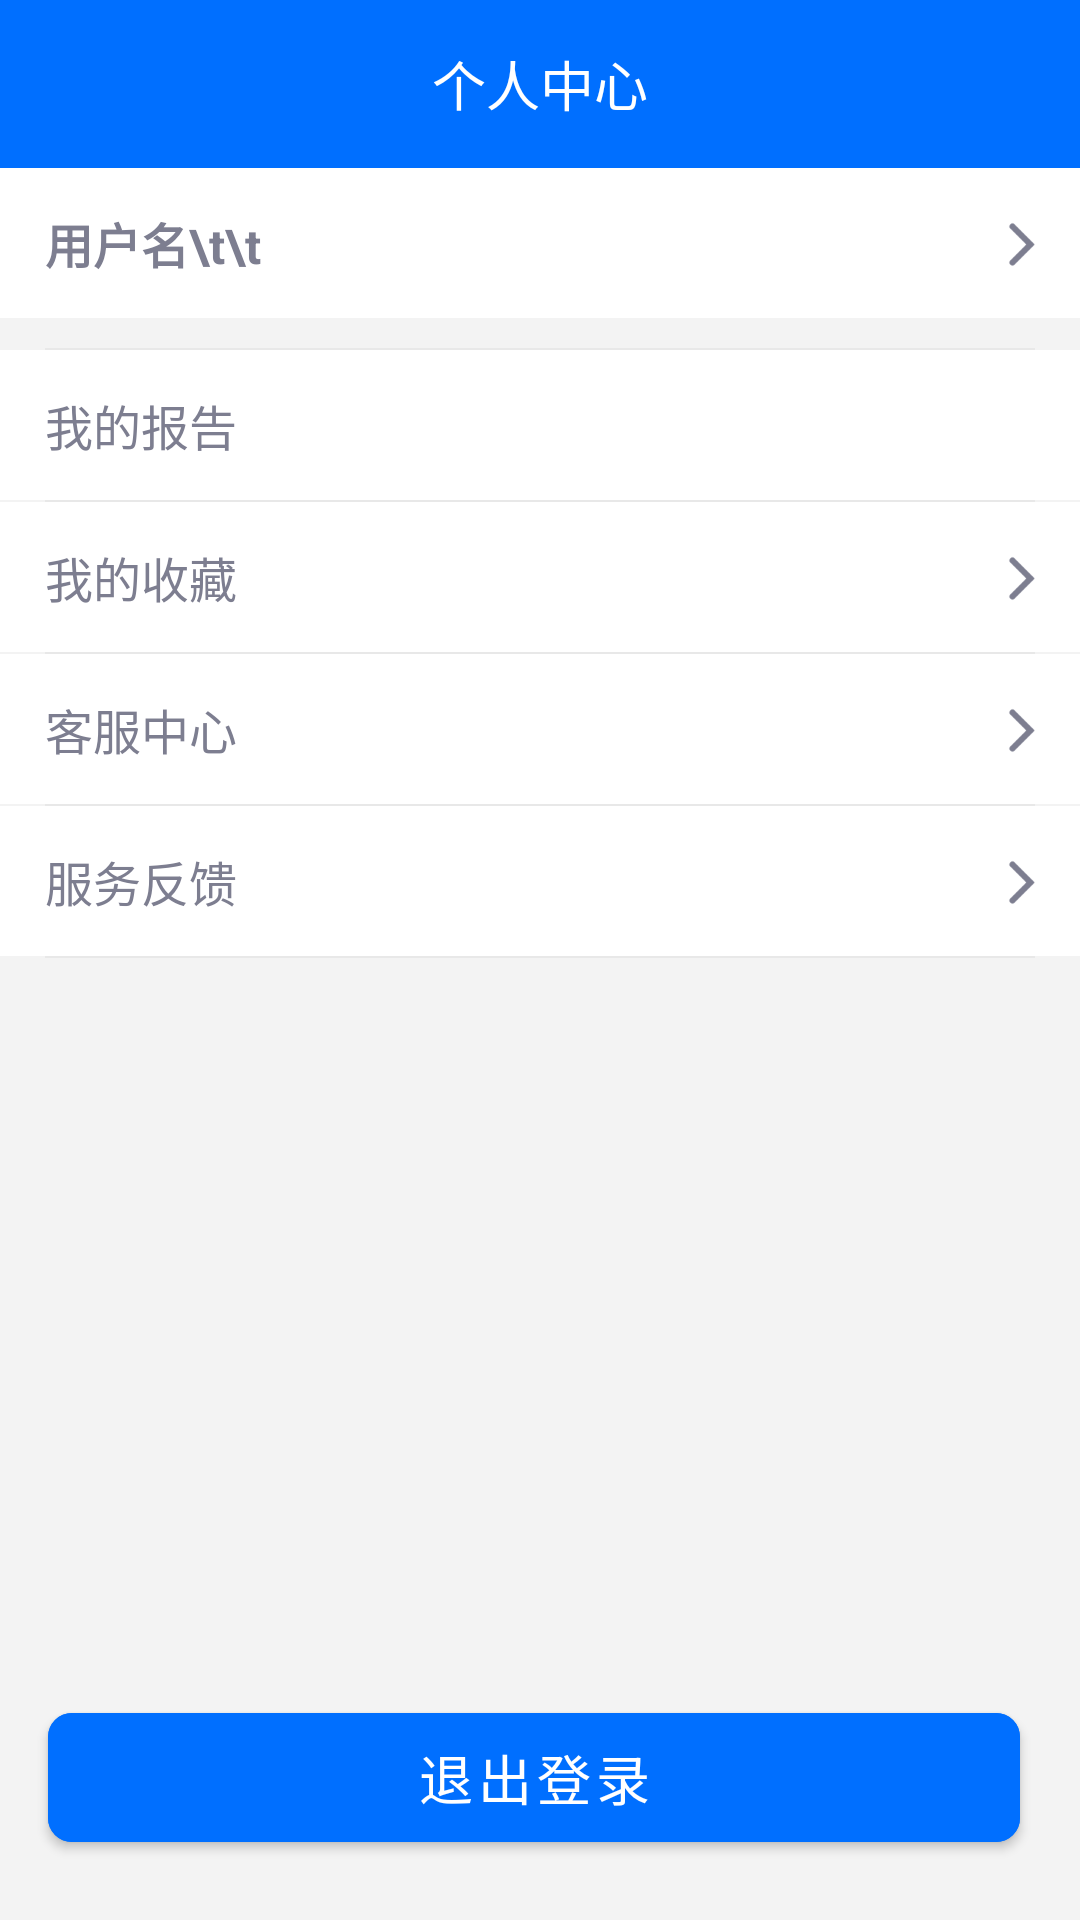

Named icons in this screenshot (1080w x 1920h) and their bounding boxes, (x1, y1, x2, y2):
next: (1009, 223, 1035, 266), (1009, 557, 1035, 600), (1009, 709, 1035, 752), (1009, 861, 1035, 904)
